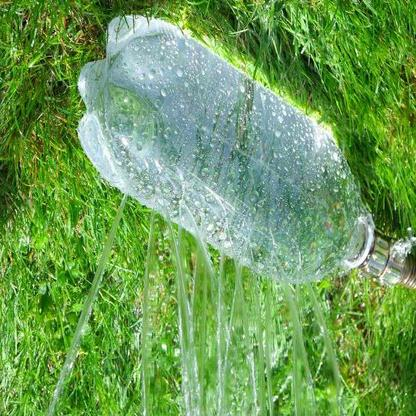plastic bottle: (75, 14, 416, 297)
